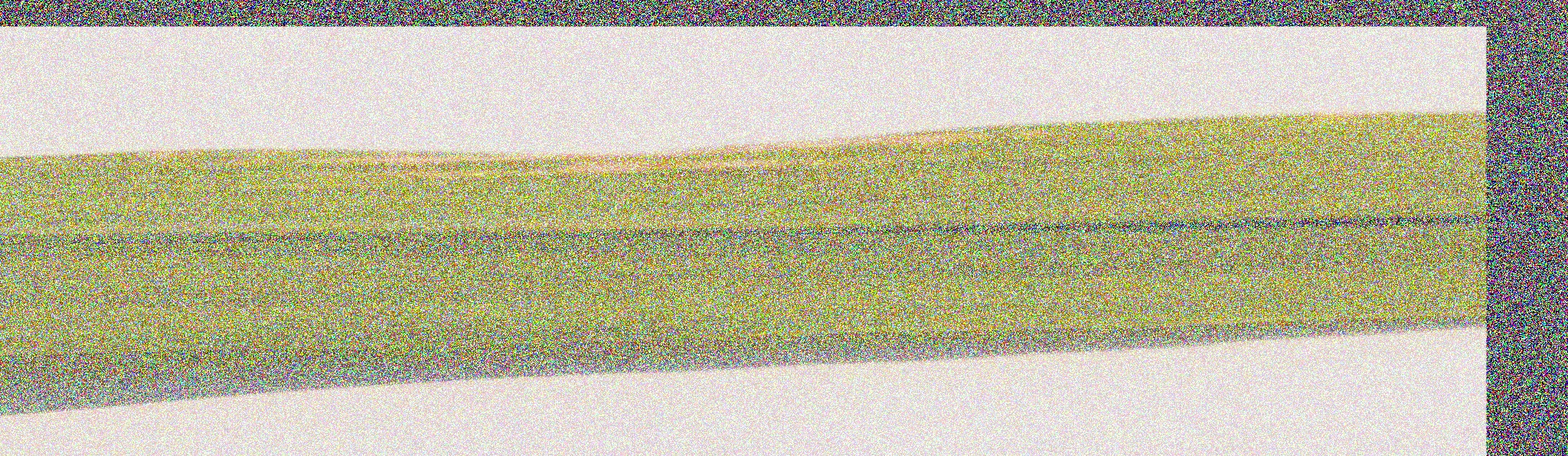Leaf_Blast: (88, 118, 1193, 171)
